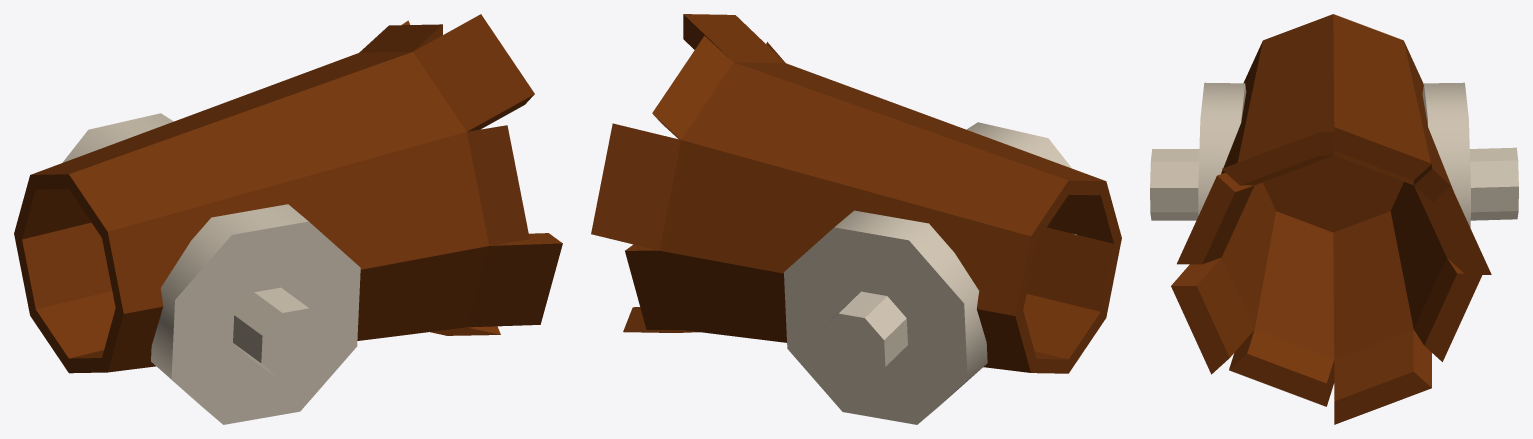
The model's file is Canon_2.FBX.
3 views of the same model, side by side, from view 1: azimuth 30°, elevation 25°; view 2: azimuth 150°, elevation 25°; view 3: azimuth 270°, elevation 25° (orthographic). The views are drawn at different scales.
Parts seen in each view (by area): view 1: Cylinder112, Cylinder113, Cylinder111; view 2: Cylinder112, Cylinder111, Cylinder113; view 3: Cylinder112, Cylinder111, Cylinder113.
Boxes of the visible parts, left/top/right/bottom form: Cylinder112: left=14, top=14, right=562, bottom=373; Cylinder113: left=151, top=204, right=360, bottom=424; Cylinder111: left=62, top=113, right=173, bottom=162; Cylinder112: left=591, top=14, right=1121, bottom=373; Cylinder111: left=784, top=210, right=987, bottom=424; Cylinder113: left=966, top=122, right=1076, bottom=235; Cylinder112: left=1171, top=14, right=1491, bottom=424; Cylinder111: left=1422, top=82, right=1518, bottom=227; Cylinder113: left=1150, top=82, right=1246, bottom=220.
Bounding box in the file's own units: 229 × 174 × 199.
